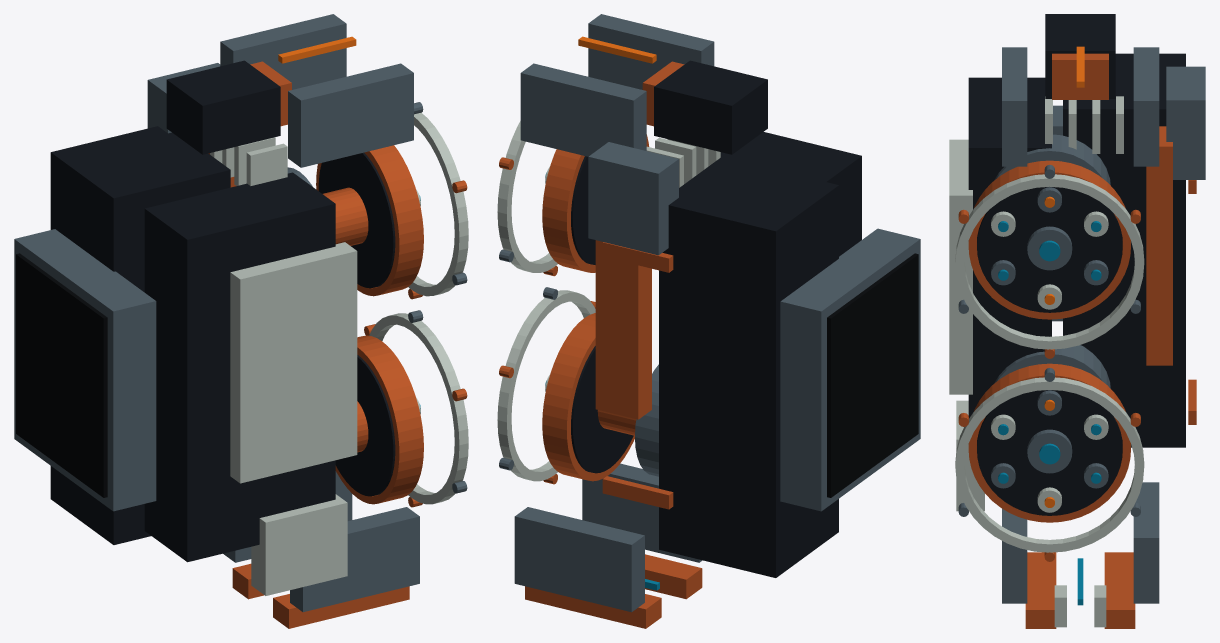
3 renders of one model, left to right at view 1: azimuth 30°, elevation 25°; view 2: azimuth 150°, elevation 25°; view 3: azimuth 270°, elevation 25°, orthographic. The views are drawn at different scales.
Parts seen in each view (by area): view 1: upper_chassis, white_ceramic_spine, lower_main_spine, side_mount_rubber, side_mount_steel, rear_feed_rail_upper, rear_power_cell, upper_front_guard, muzzle_rail_upper, rear_feed_rail_lower, rotor_L_outer_rim, rotor_R_disc (+13 smaller); view 2: lower_main_spine, side_mount_rubber, side_mount_steel, muzzle_rail_lower, rear_feed_rail_lower, copper_cable_track, lower_rear_guard, rear_power_cell, upper_chassis, rear_feed_rail_upper, rotor_L_outer_rim, muzzle_rail_upper (+14 smaller); view 3: lower_main_spine, rotor_L_disc, rotor_R_disc, upper_chassis, rotor_R_guard_ring, rotor_L_guard_ring, copper_cable_track, white_ceramic_spine, lower_rear_guard, rotor_L_outer_rim, rotor_R_outer_rim, rear_power_cell (+33 smaller).
Part boxes in pixels (x1=…): upper_chassis: x1=144, y1=172, x2=335, y2=562; white_ceramic_spine: x1=230, y1=242, x2=357, y2=483; lower_main_spine: x1=50, y1=126, x2=230, y2=544; side_mount_rubber: x1=16, y1=253, x2=107, y2=497; side_mount_steel: x1=14, y1=229, x2=156, y2=511; rear_feed_rail_upper: x1=288, y1=63, x2=413, y2=167; rear_power_cell: x1=166, y1=60, x2=280, y2=154; upper_front_guard: x1=251, y1=494, x2=347, y2=595; muzzle_rail_upper: x1=290, y1=507, x2=419, y2=612; rear_feed_rail_lower: x1=220, y1=14, x2=346, y2=89; rotor_L_outer_rim: x1=335, y1=335, x2=423, y2=504; rotor_R_disc: x1=318, y1=152, x2=395, y2=288; lower_main_spine: x1=659, y1=156, x2=838, y2=577; side_mount_rubber: x1=827, y1=253, x2=918, y2=497; side_mount_steel: x1=780, y1=228, x2=920, y2=511; muzzle_rail_lower: x1=514, y1=507, x2=644, y2=612; rear_feed_rail_lower: x1=520, y1=63, x2=646, y2=156; copper_cable_track: x1=595, y1=240, x2=651, y2=419; lower_rear_guard: x1=588, y1=142, x2=678, y2=255; rear_power_cell: x1=654, y1=60, x2=767, y2=154; upper_chassis: x1=720, y1=132, x2=861, y2=256; rear_feed_rail_upper: x1=588, y1=14, x2=714, y2=89; rotor_L_outer_rim: x1=542, y1=313, x2=634, y2=481; muzzle_rail_upper: x1=582, y1=463, x2=702, y2=562; lower_main_spine: x1=1063, y1=53, x2=1185, y2=447; rotor_L_disc: x1=977, y1=390, x2=1122, y2=515; rotor_R_disc: x1=977, y1=187, x2=1122, y2=312; upper_chassis: x1=968, y1=77, x2=1051, y2=418; rotor_R_guard_ring: x1=955, y1=174, x2=1144, y2=349; rotor_L_guard_ring: x1=955, y1=377, x2=1144, y2=552; copper_cable_track: x1=1146, y1=126, x2=1172, y2=365; white_ceramic_spine: x1=949, y1=139, x2=972, y2=394; lower_rear_guard: x1=1166, y1=66, x2=1205, y2=179; rotor_L_outer_rim: x1=968, y1=363, x2=1130, y2=522; rotor_R_outer_rim: x1=968, y1=160, x2=1130, y2=319; rear_power_cell: x1=1045, y1=14, x2=1115, y2=98.
Bounding box in the file's own units: 0.8845 × 1.34 × 0.584.
